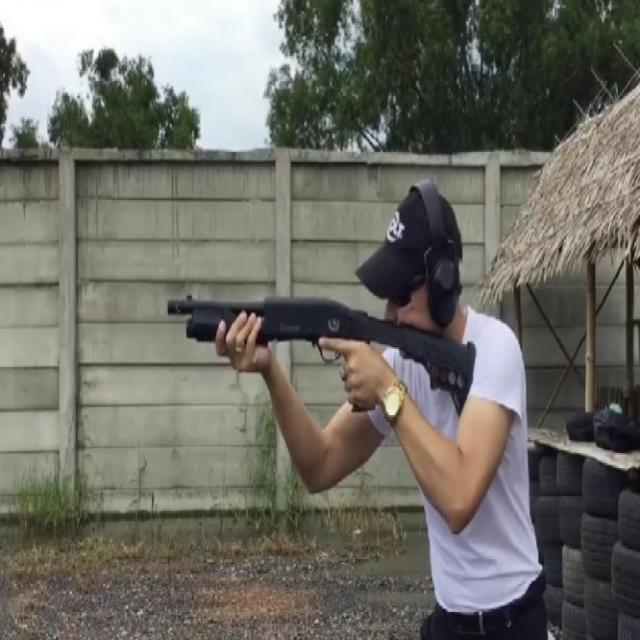shotgun: (160, 274, 490, 420)
